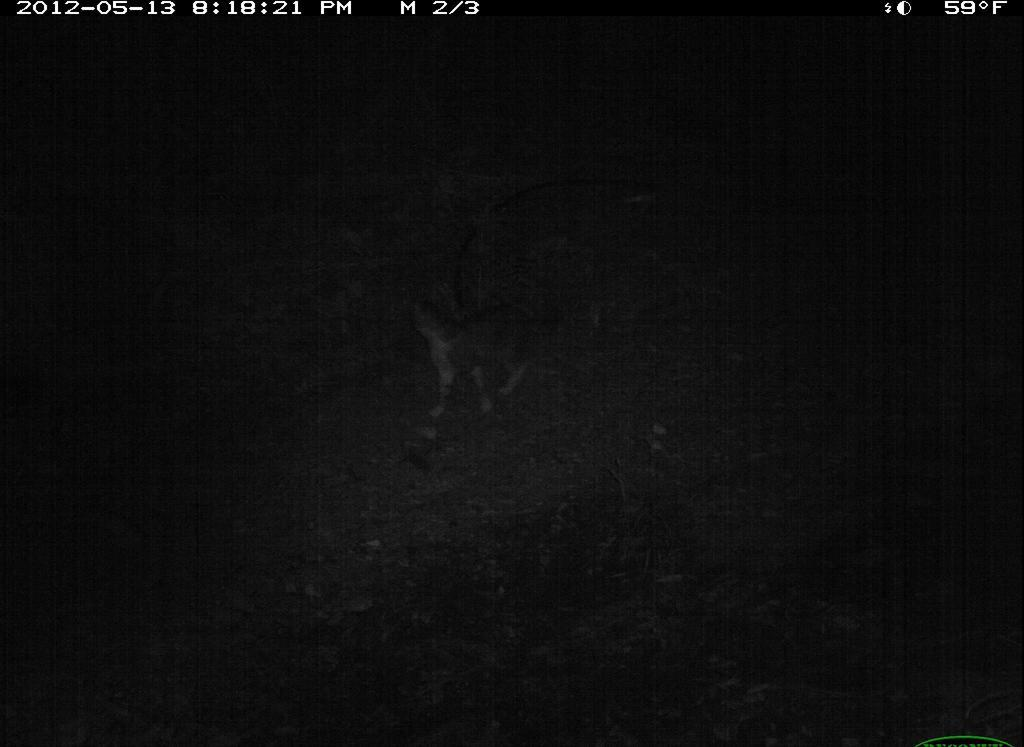cat: (391, 276, 598, 431)
